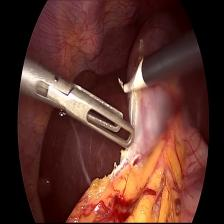Grasper: (52, 64, 139, 156)
Hook: (117, 50, 149, 98)
